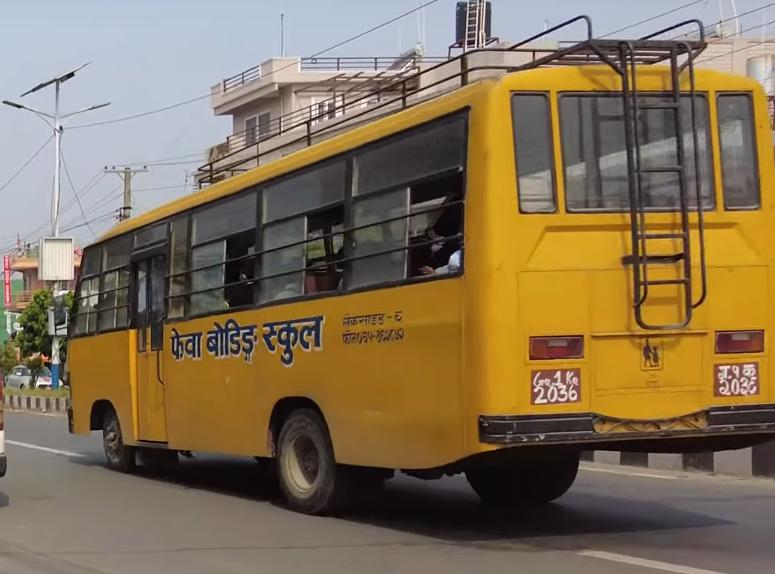school_bus: (60, 13, 775, 508)
